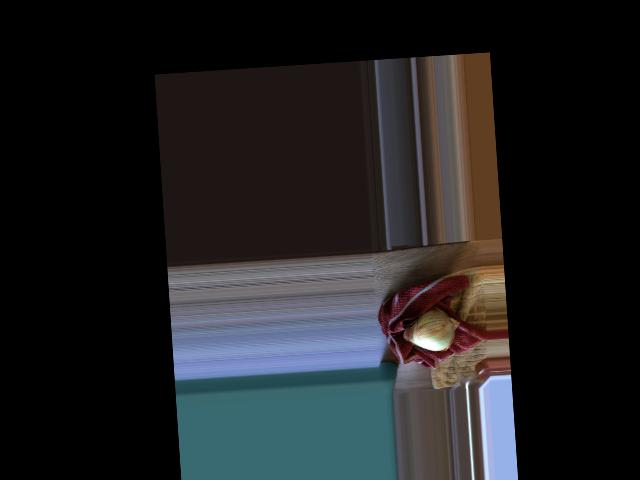onion: (405, 306, 457, 356)
